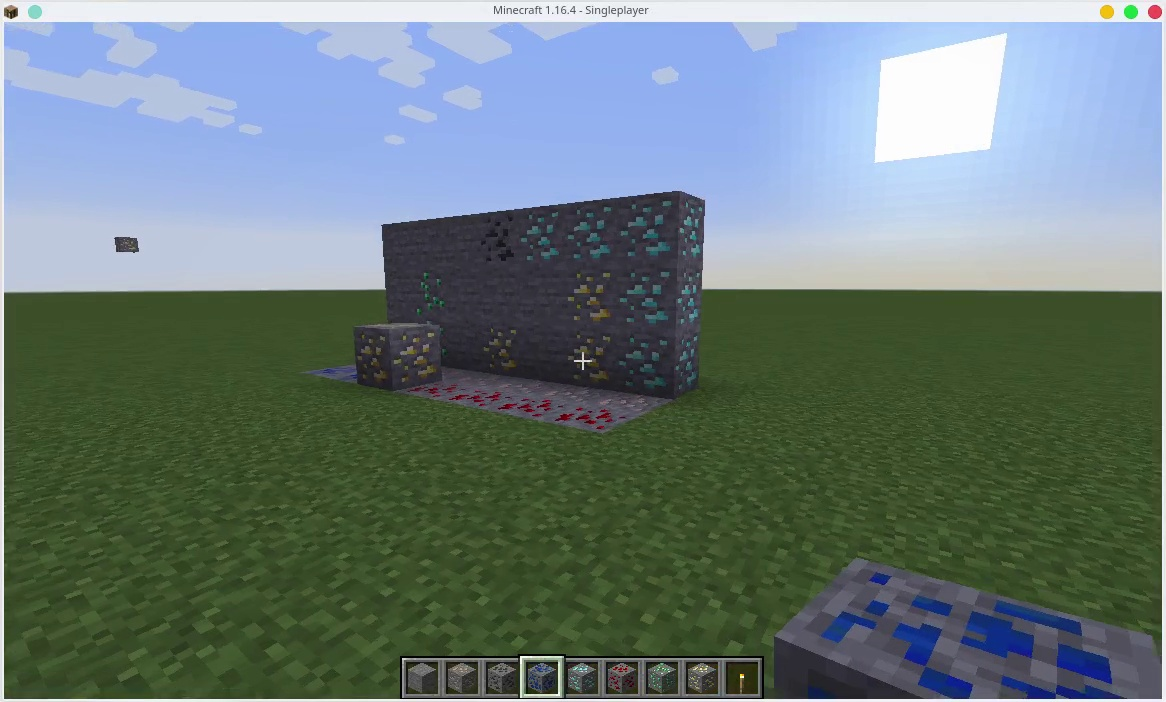gold: (360, 328, 445, 389), (556, 328, 616, 381), (561, 275, 618, 321), (474, 327, 530, 371), (687, 664, 715, 692)
